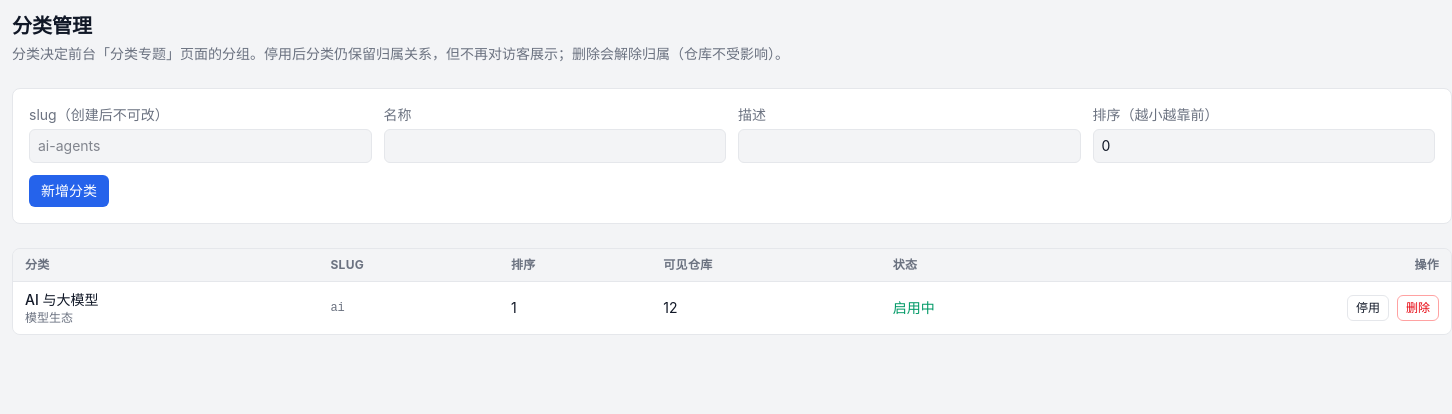
Test case: AdminCategoriesPage › toggles a category and reports the new state
Click the button with test id "toggle-category-1" at (1368, 308), box top-left (1347, 295), bottom-right (1389, 321)
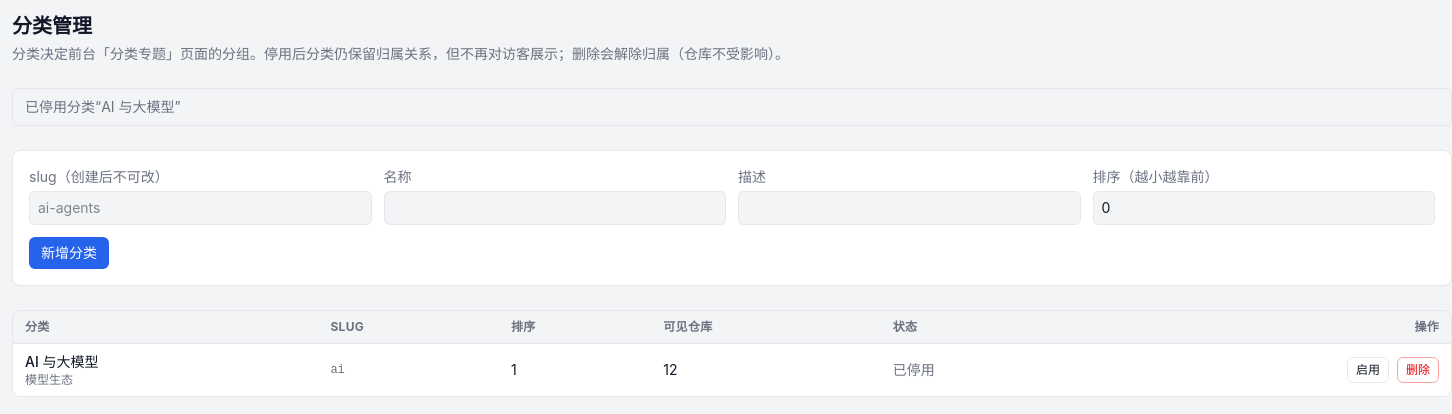
Expected: the text "已停用分类“AI 与大模型”" is shown, top-left (12, 88), bottom-right (1451, 126)
